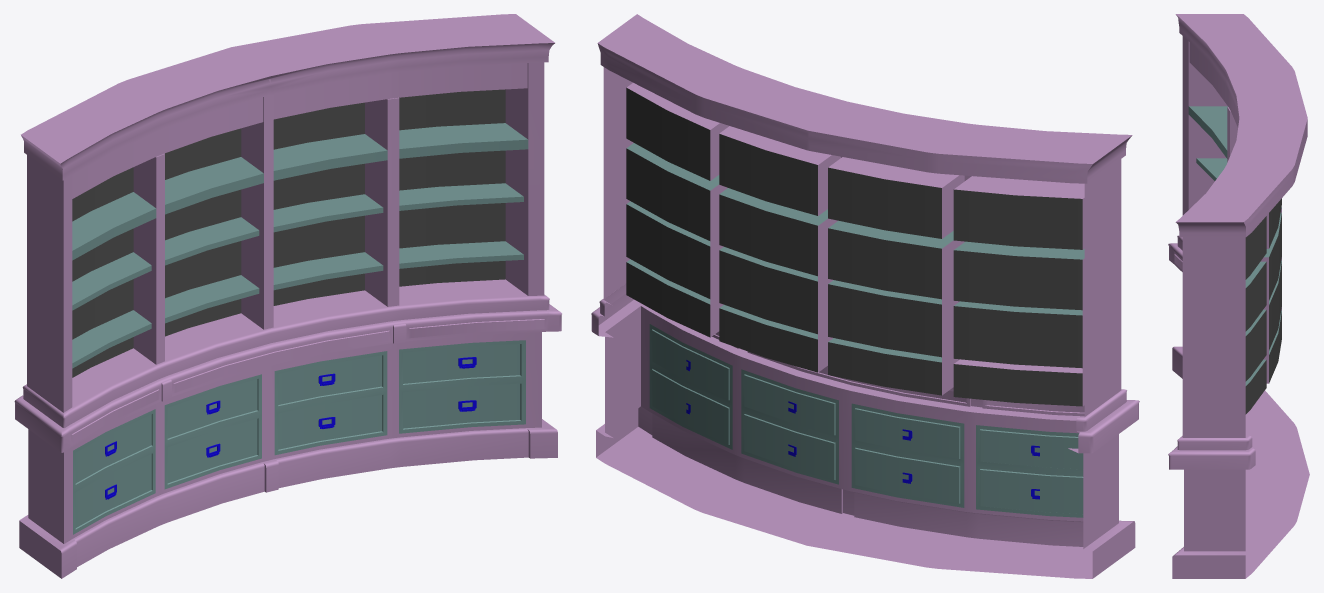
The model's file is A_Bibliothèque.fbx.
The picture shows the model from 3 angles, left to right: view 1: azimuth 30°, elevation 25°; view 2: azimuth 150°, elevation 25°; view 3: azimuth 270°, elevation 25°; orthographic projection. The views are drawn at different scales.
Parts seen in each view (by area): view 1: Box001; view 2: Box001; view 3: Box001.
Part boxes in pixels (x1,y1,x2,y2): Box001: (14,14,561,578); Box001: (591,14,1139,578); Box001: (1168,14,1309,578).
Bounding box in the file's own units: 319 × 252 × 90.75.
